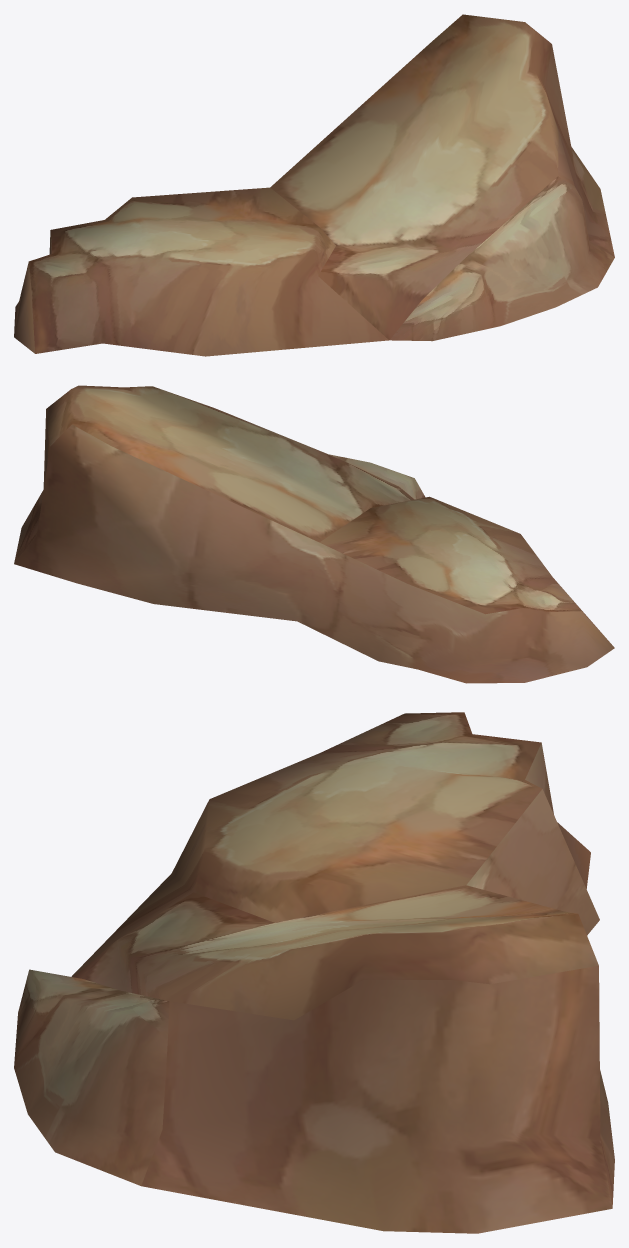
Rendered from Map_11_stone04.FBX.
3 renders of one model, top to bottom at view 1: azimuth 30°, elevation 25°; view 2: azimuth 150°, elevation 25°; view 3: azimuth 270°, elevation 25°, orthographic. The views are drawn at different scales.
Parts seen in each view (by area): view 1: Map_11_stone04; view 2: Map_11_stone04; view 3: Map_11_stone04.
Part boxes in pixels (box(x1,y1,x2,y2)): Map_11_stone04: box(14, 14, 614, 356); Map_11_stone04: box(14, 385, 614, 683); Map_11_stone04: box(14, 712, 614, 1233).
Size of the model in its own units: 623 by 333 by 180.
